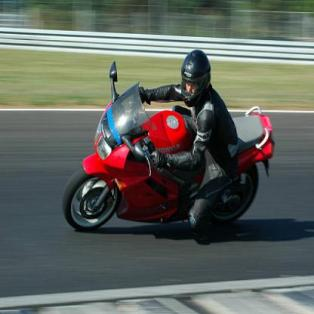Motocicleta: (60, 81, 275, 240)
